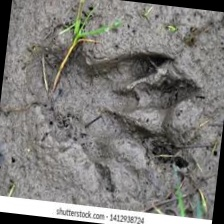beaver: (19, 35, 207, 196)
